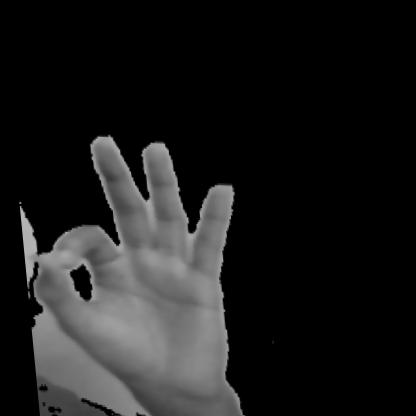ok: (9, 125, 274, 415)
